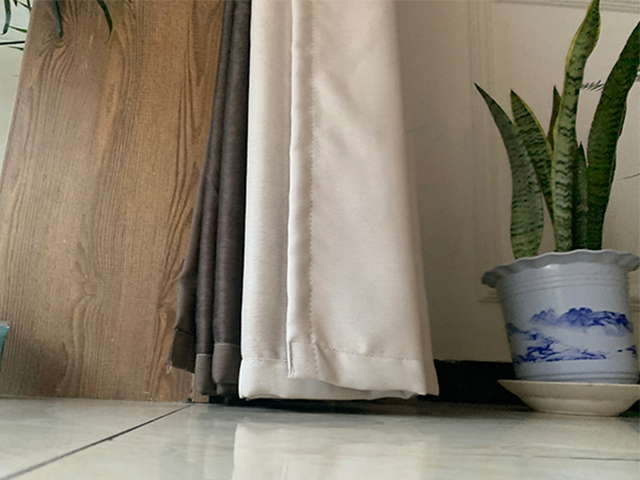curtain: (167, 1, 441, 407)
